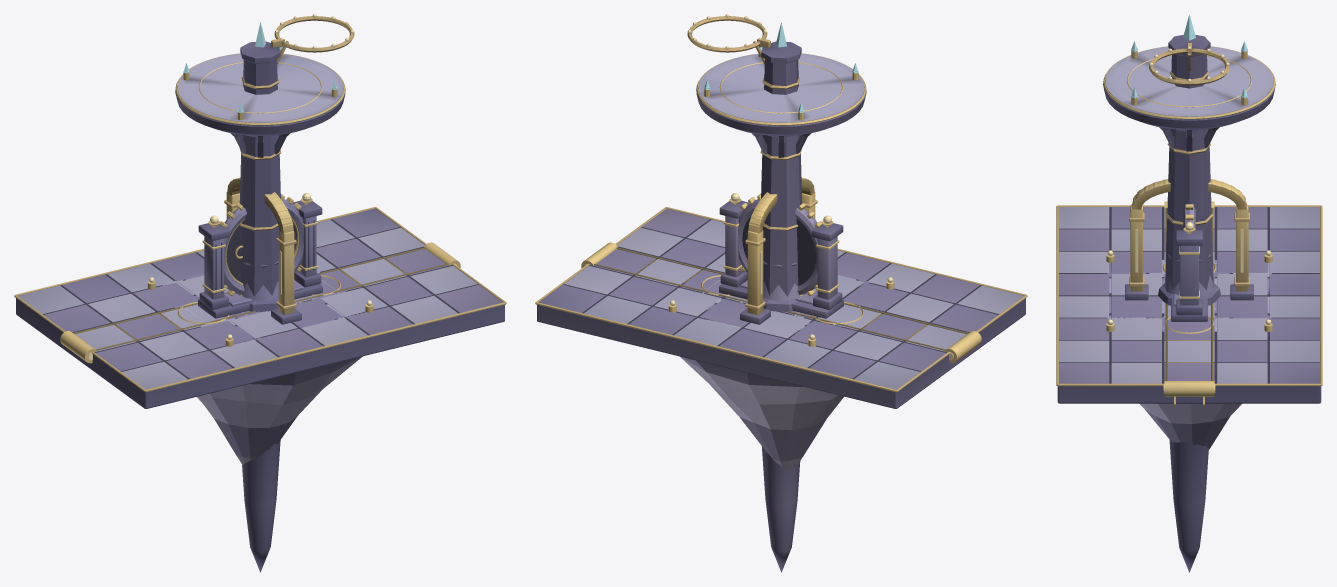
File: vault_props.glb
3 renders of one model, left to right at view 1: azimuth 30°, elevation 25°; view 2: azimuth 150°, elevation 25°; view 3: azimuth 270°, elevation 25°, orthographic.
Visible parts, largest first — view 1: cat_court, overlook, cat_tower, door_frame, fulcrum, gate, beam, dais; view 2: cat_court, overlook, cat_tower, door_frame, fulcrum, gate, beam; view 3: cat_court, overlook, cat_tower, gate, fulcrum, door_frame, beam, dais.
Boxes of the visible parts, x1=… form: cat_court: x1=14, y1=207, x2=506, y2=465; overlook: x1=175, y1=46, x2=345, y2=301; cat_tower: x1=239, y1=14, x2=354, y2=311; door_frame: x1=198, y1=193, x2=322, y2=318; fulcrum: x1=242, y1=440, x2=280, y2=572; gate: x1=224, y1=177, x2=301, y2=324; beam: x1=60, y1=242, x2=460, y2=363; dais: x1=147, y1=272, x2=373, y2=346; cat_court: x1=535, y1=207, x2=1027, y2=470; overlook: x1=696, y1=46, x2=866, y2=301; cat_tower: x1=687, y1=14, x2=802, y2=311; door_frame: x1=719, y1=193, x2=843, y2=318; fulcrum: x1=761, y1=446, x2=800, y2=572; gate: x1=740, y1=177, x2=817, y2=324; beam: x1=581, y1=242, x2=981, y2=363; cat_court: x1=1056, y1=205, x2=1322, y2=449; overlook: x1=1103, y1=41, x2=1275, y2=296; cat_tower: x1=1149, y1=14, x2=1229, y2=305; gate: x1=1125, y1=179, x2=1253, y2=300; fulcrum: x1=1169, y1=438, x2=1208, y2=572; door_frame: x1=1171, y1=204, x2=1207, y2=321; beam: x1=1163, y1=201, x2=1215, y2=405; dais: x1=1106, y1=250, x2=1272, y2=331.
Bounding box in the file's own units: 16.86 × 23.4 × 10.1.
